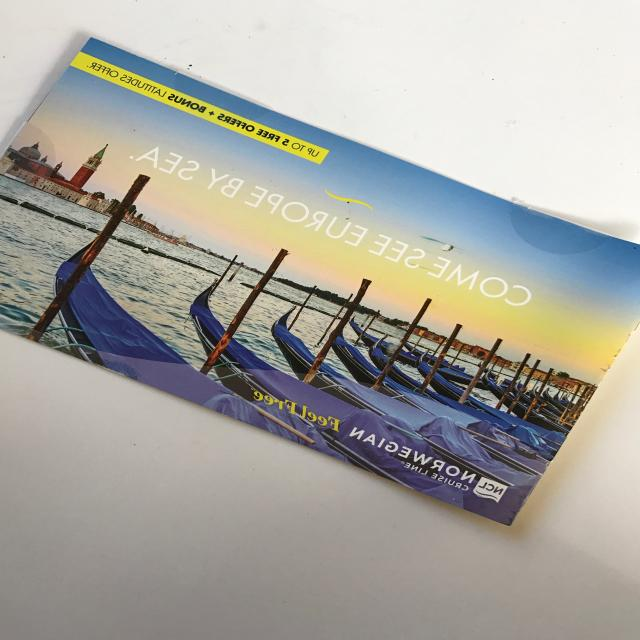paper: (0, 7, 635, 638)
